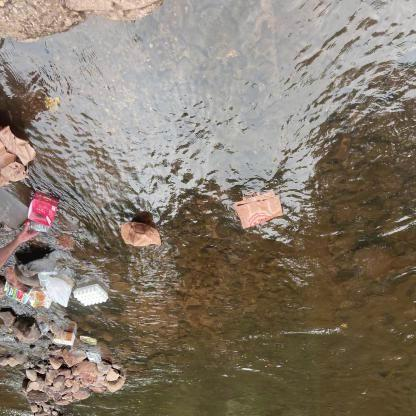Plastic: (70, 279, 109, 310), (44, 274, 74, 308), (84, 350, 103, 366)
Trash: (231, 182, 287, 234), (0, 119, 37, 188), (118, 216, 165, 252)
